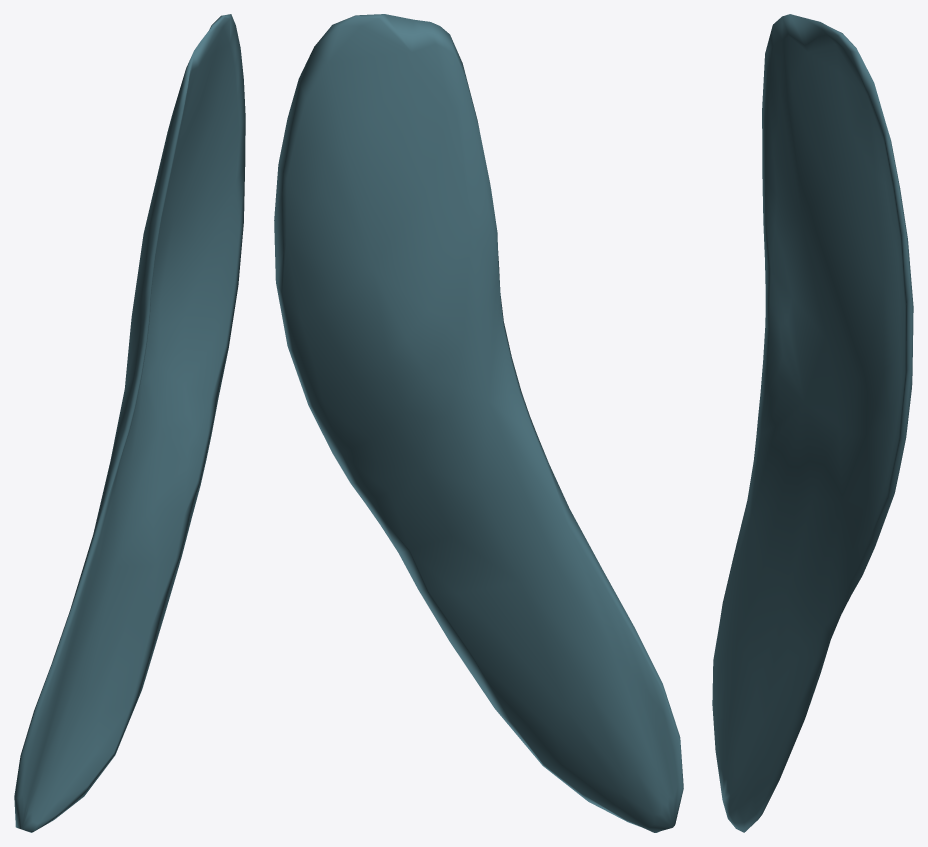
Rendered from Quadratus_femoris_ending_on_quadrate_tubercle.l_Generated_Mesh_.glb.
3 renders of one model, left to right at view 1: azimuth 30°, elevation 25°; view 2: azimuth 150°, elevation 25°; view 3: azimuth 270°, elevation 25°, orthographic. The views are drawn at different scales.
Parts seen in each view (by area): view 1: Quadratus_femoris_ending_on_quadrate_tubercle.l_Generated_Me; view 2: Quadratus_femoris_ending_on_quadrate_tubercle.l_Generated_Me; view 3: Quadratus_femoris_ending_on_quadrate_tubercle.l_Generated_Me.
Boxes of the visible parts, left/top/right/bottom form: Quadratus_femoris_ending_on_quadrate_tubercle.l_Generated_Me: left=14, top=14, right=245, bottom=832; Quadratus_femoris_ending_on_quadrate_tubercle.l_Generated_Me: left=274, top=14, right=683, bottom=832; Quadratus_femoris_ending_on_quadrate_tubercle.l_Generated_Me: left=712, top=14, right=913, bottom=832.
Size of the model in its own units: 0.0191 by 0.0439 by 0.00857.
